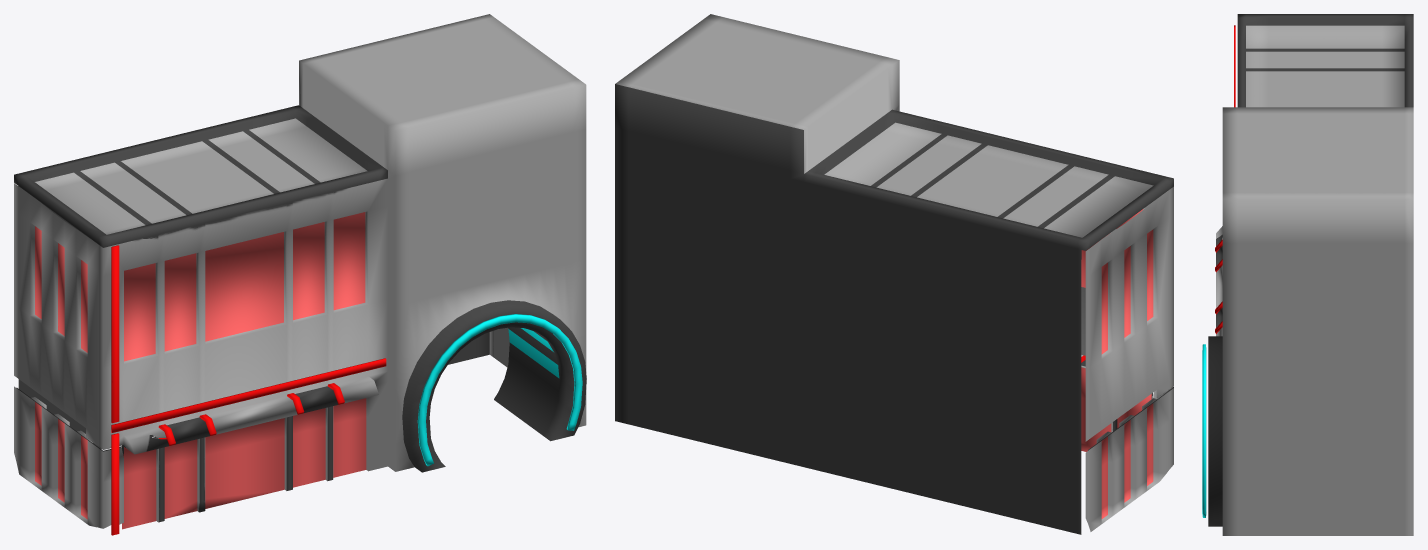
Rendered from TunnelWIP.obj.
3 renders of one model, left to right at view 1: azimuth 30°, elevation 25°; view 2: azimuth 150°, elevation 25°; view 3: azimuth 270°, elevation 25°, orthographic.
Visible parts, largest first — view 1: Cube.003_Cube.002; view 2: Cube.003_Cube.002; view 3: Cube.003_Cube.002.
Part boxes in pixels (x1,y1,x2,y2): Cube.003_Cube.002: (14,14,586,535); Cube.003_Cube.002: (615,14,1173,534); Cube.003_Cube.002: (1202,14,1413,535).
Size of the model in its own units: 18.87 by 12.92 by 7.34.
Materials: 1 (1 with a texture image).
